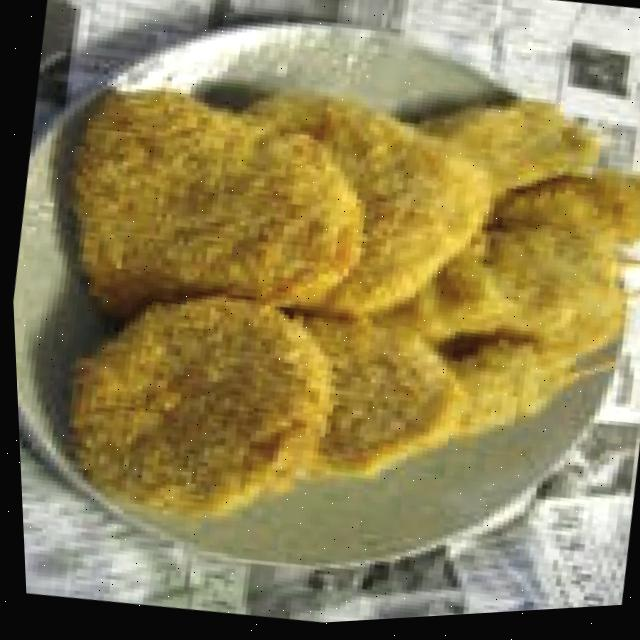炸货点心: (11, 46, 513, 556)
